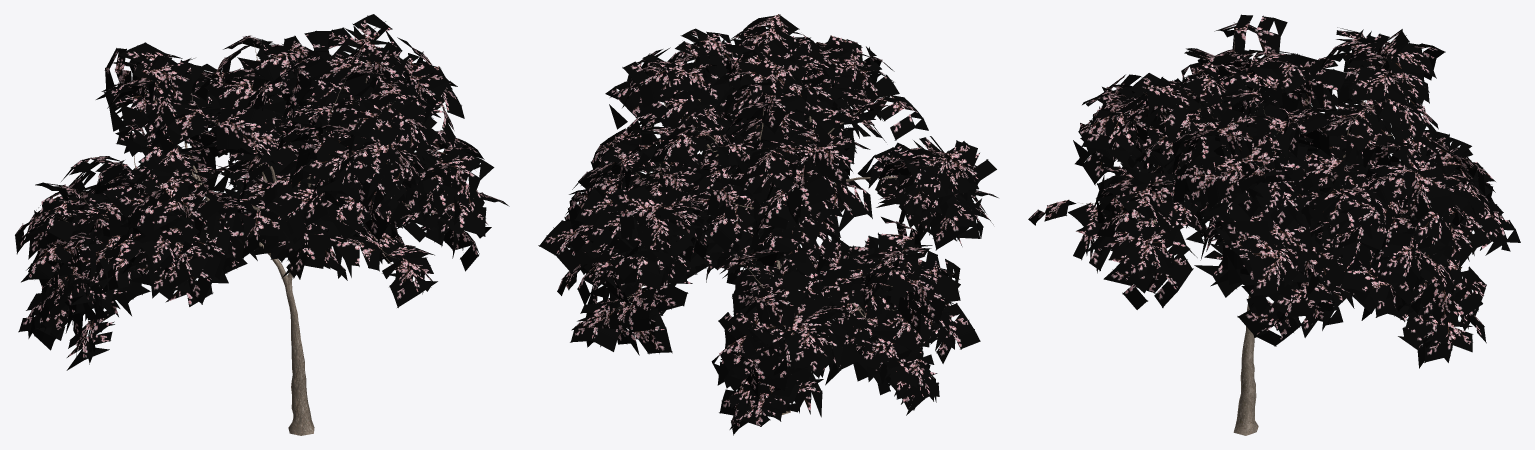
File: Cherry_B_lod0.obj
3 views of the same model, side by side, from view 1: azimuth 30°, elevation 25°; view 2: azimuth 150°, elevation 25°; view 3: azimuth 270°, elevation 25° (orthographic). The views are drawn at different scales.
Visible parts, largest first — view 1: model; view 2: model; view 3: model.
Part boxes in pixels (x1,y1,x2,y2): model: [15, 14, 509, 435]; model: [538, 14, 998, 435]; model: [1028, 14, 1520, 435].
Size of the model in its own units: 66.2 by 56.88 by 66.39.
Materials: 2 (2 with a texture image).
